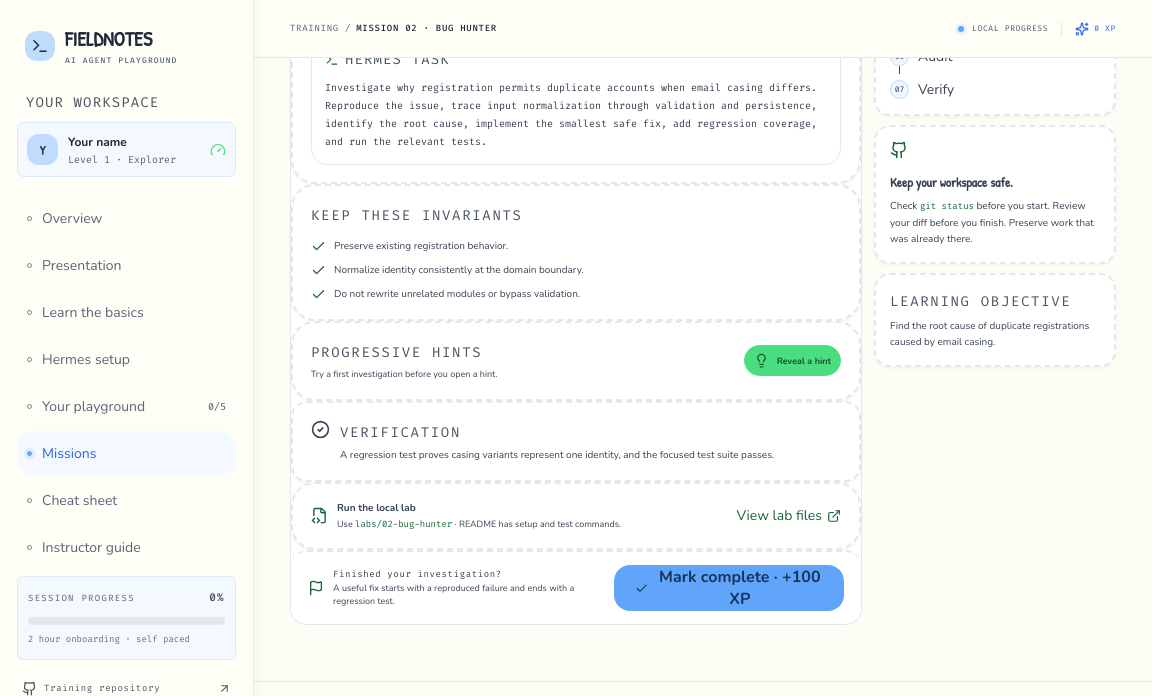
Scenario: training interactions › reveals mission hints progressively and persists the hint count
This screenshot has width=1152, height=696.
(page scrolled)
What coordinates should you click on to do the following:
click the button "Reveal a hint"
I would click on:
 (792, 361)
Its box is [744, 345, 841, 376].
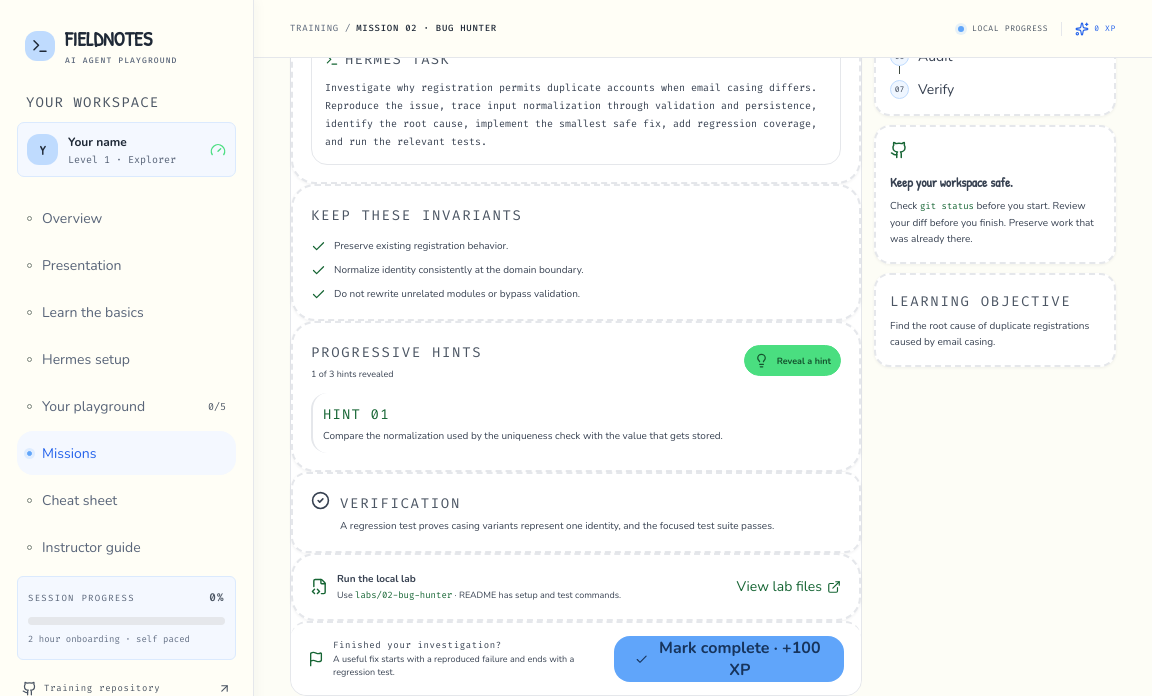
Expected: the text "Compare the normalization" is shown, [323, 429, 723, 443]
What coordinates should you click on to do the following:
click the button "Reveal a hint"
I would click on:
 (792, 361)
Its box is [744, 345, 841, 376].
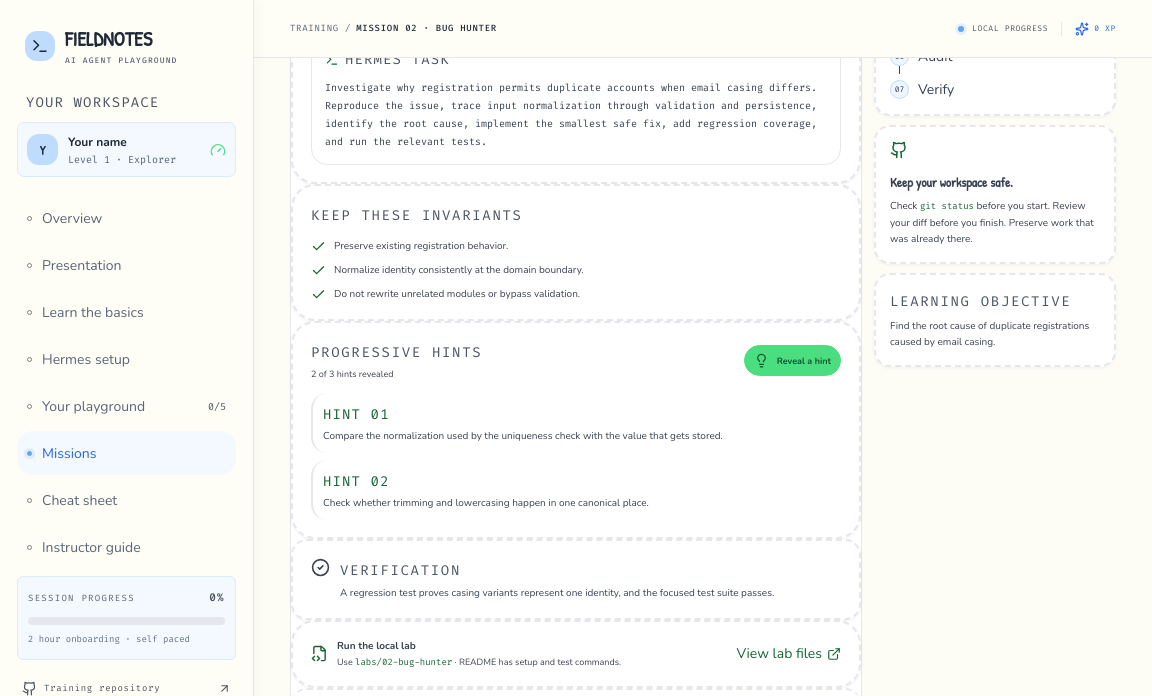
Expected: the text "Check whether trimming" is shown, [323, 496, 649, 510]
